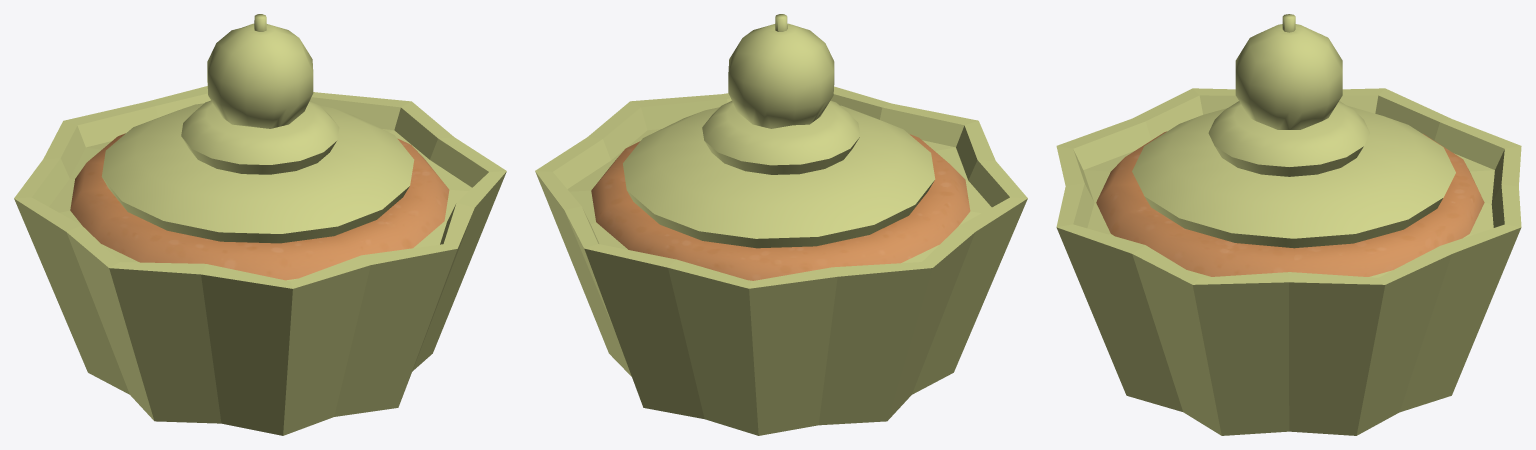
File: cupcake.fbx
The picture shows the model from 3 angles, left to right: view 1: azimuth 30°, elevation 25°; view 2: azimuth 150°, elevation 25°; view 3: azimuth 270°, elevation 25°; orthographic projection.
Parts seen in each view (by area): view 1: cupcake; view 2: cupcake; view 3: cupcake.
Part boxes in pixels (x1=…): cupcake: x1=14, y1=14, x2=506, y2=435; cupcake: x1=535, y1=14, x2=1027, y2=435; cupcake: x1=1056, y1=14, x2=1521, y2=435.
Size of the model in its own units: 58.14 by 48.38 by 58.14.
